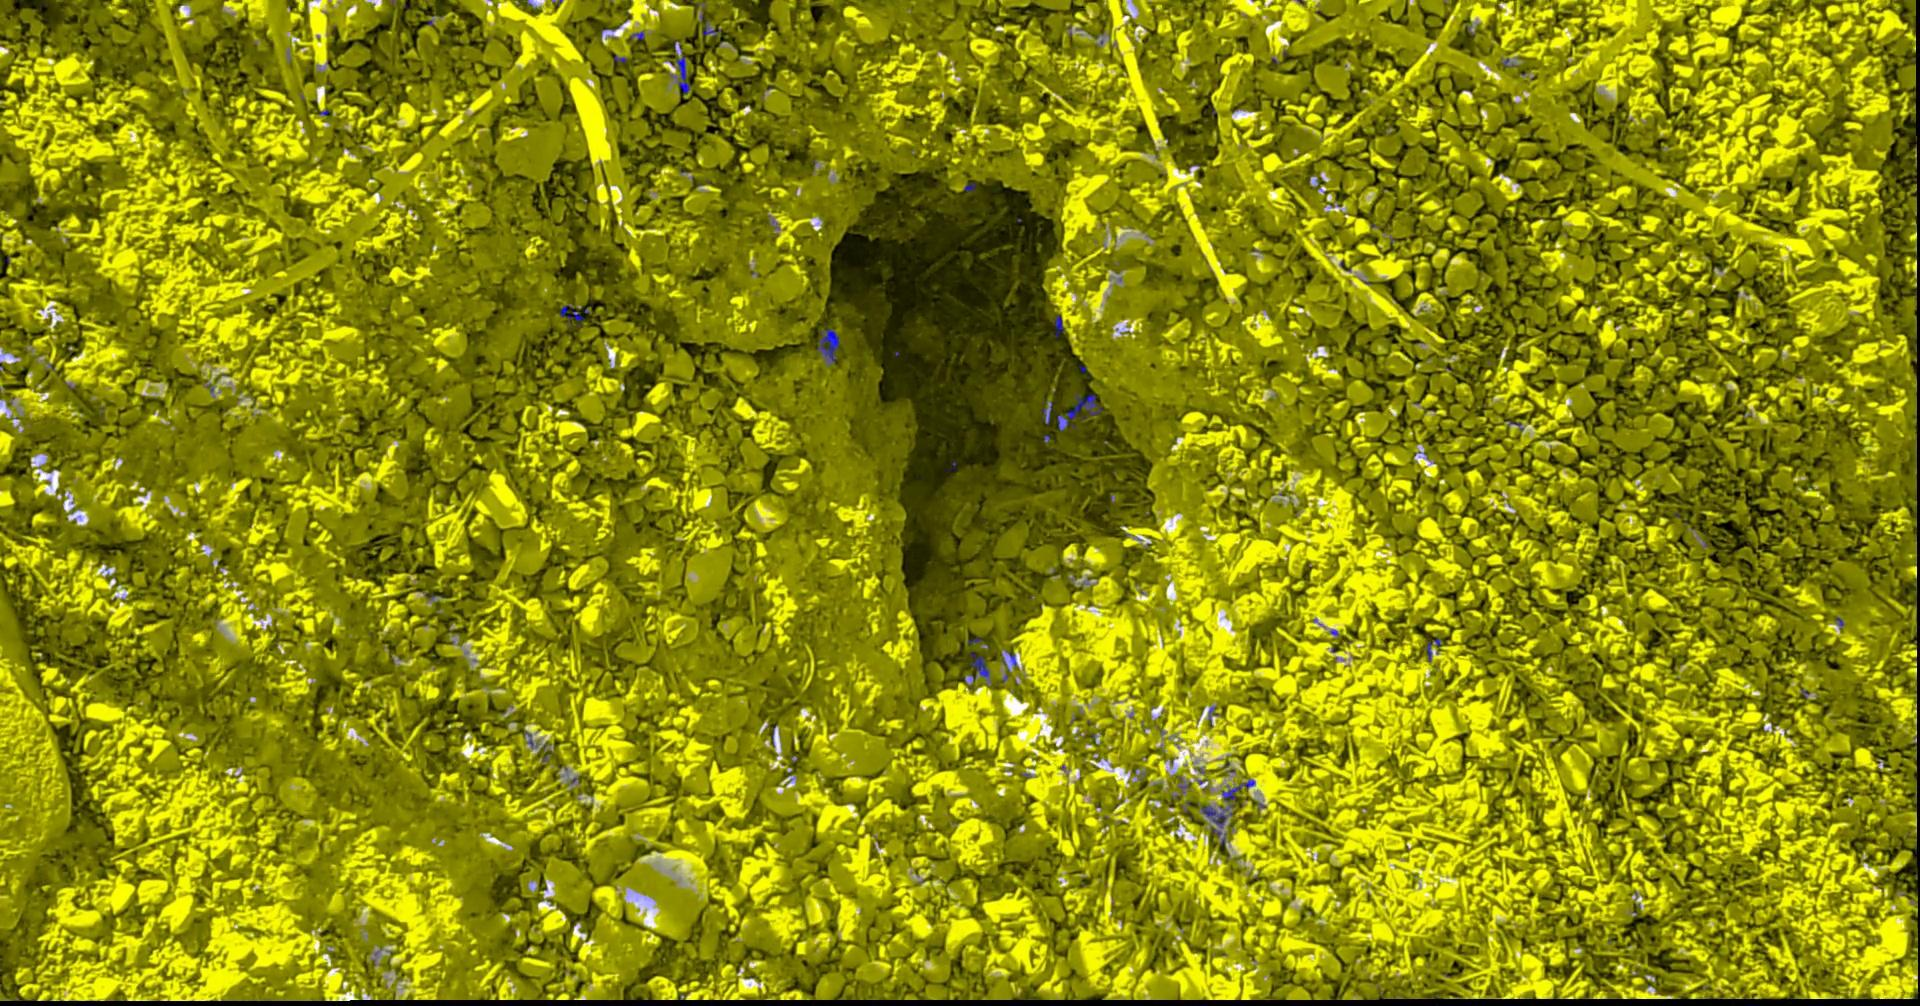ant: (1200, 779, 1255, 846), (1057, 392, 1102, 431), (668, 50, 690, 97), (817, 328, 839, 365), (695, 3, 720, 36), (969, 652, 989, 681), (559, 304, 583, 326), (1425, 638, 1441, 661), (1041, 399, 1051, 424), (1053, 314, 1063, 337)
